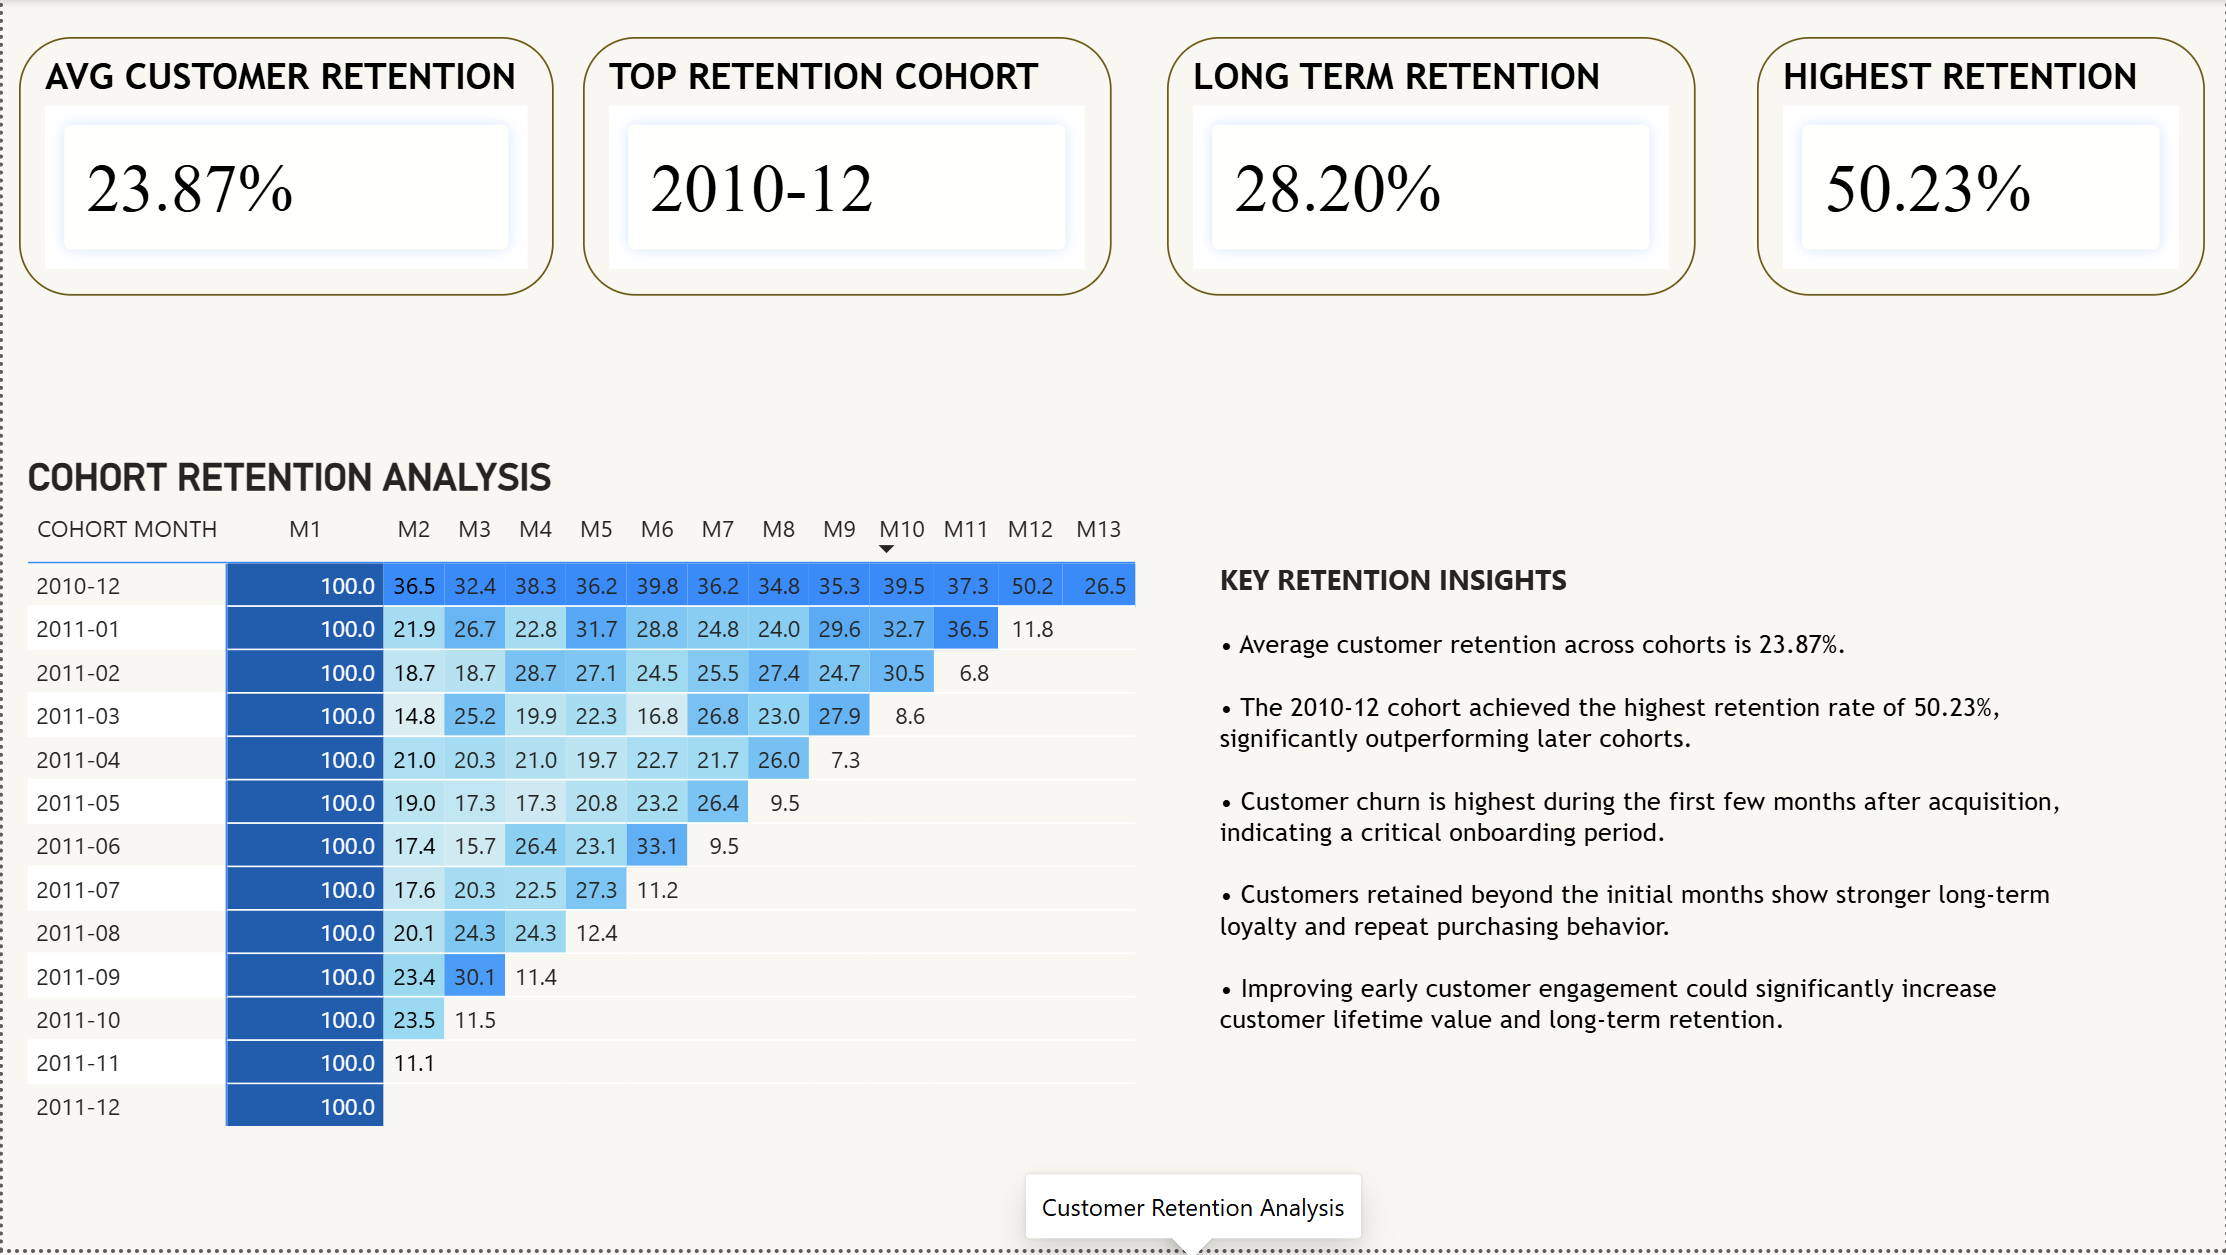

The dashboard page shown, as its layout file describes it:
{"tool":"powerbi","page":{"name":"Customer Retention Analysis","canvas":[1280,720],"ordinal":3},"visuals":[{"type":"pivotTable","title":"COHORT RETENTION ANALYSIS","fields":{"Rows":["customer_retention.Column1"],"Values":["Sum(customer_retention.Column2)","Sum(customer_retention.Column3)","Sum(customer_retention.Column4)","Sum(customer_retention.Column5)","Sum(customer_retention.Column6)","Sum(customer_retention.Column7)","Sum(customer_retention.Column8)","Sum(customer_retention.Column9)","Sum(customer_retention.Column10)","Sum(customer_retention.Column11)","Sum(customer_retention.Column12)","Sum(customer_retention.Column13)"]},"box":[9.3,262.8,661.6,457],"z":0},{"type":"textbox","box":[696.2,317.5,520,328.8],"z":1000},{"type":"cardVisual","title":"AVG CUSTOMER RETENTION","fields":{"Data":["customer_retention.Average Retention Display"]},"box":[9.3,22.1,308.1,148.8],"z":2000},{"type":"cardVisual","title":"HIGHEST RETENTION","fields":{"Data":["customer_retention.Best Retention Display"]},"box":[1010.5,22.1,258.1,148.8],"z":3000},{"type":"cardVisual","title":"LONG TERM RETENTION","fields":{"Data":["customer_retention.Long Term Retention Display"]},"box":[670.9,22.1,304.7,148.8],"z":4000},{"type":"cardVisual","title":"TOP RETENTION COHORT","fields":{"Data":["customer_retention.Best Cohort"]},"box":[333.7,22.1,304.7,148.8],"z":5000}]}

Visuals, with their boxes in screenshot pixels (x1, y1, x2, y2), scaled from the page's 1280x720 canvas onto the 2226x1255 screenshot:
"COHORT RETENTION ANALYSIS" pivotTable: {"x1": 16, "y1": 458, "x2": 1167, "y2": 1254}
textbox: {"x1": 1211, "y1": 553, "x2": 2115, "y2": 1127}
"AVG CUSTOMER RETENTION" cardVisual: {"x1": 16, "y1": 39, "x2": 552, "y2": 298}
"HIGHEST RETENTION" cardVisual: {"x1": 1757, "y1": 39, "x2": 2206, "y2": 298}
"LONG TERM RETENTION" cardVisual: {"x1": 1167, "y1": 39, "x2": 1697, "y2": 298}
"TOP RETENTION COHORT" cardVisual: {"x1": 580, "y1": 39, "x2": 1110, "y2": 298}
